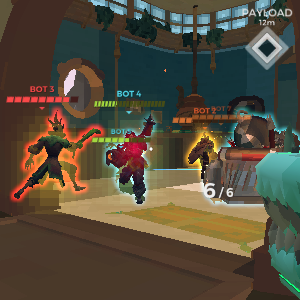model: (12, 108, 97, 207), (188, 129, 218, 180)
